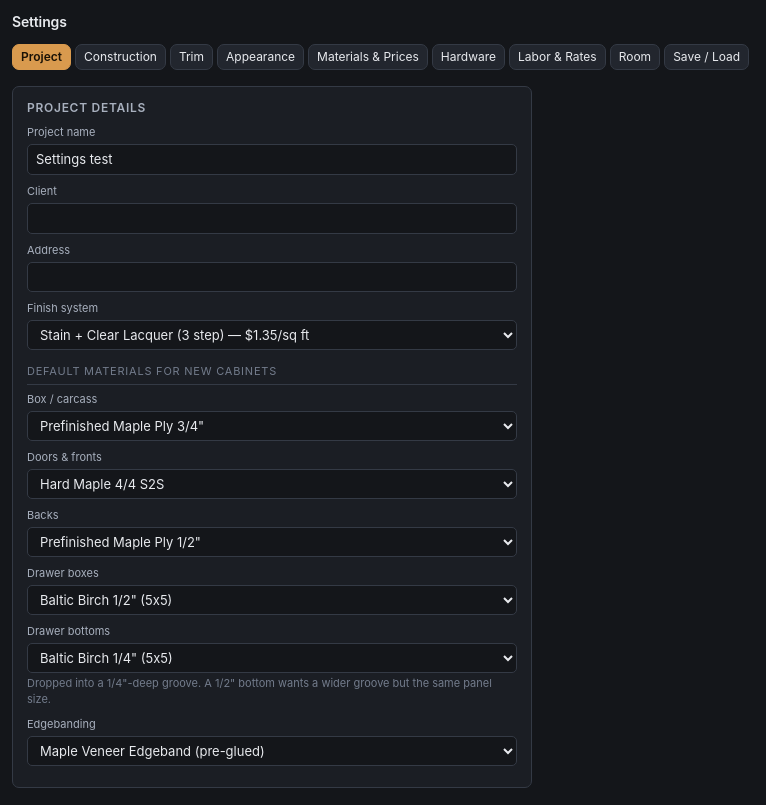
Test: SettingsView save and load › will not wipe the project on a single click
The image size is (766, 805).
Step 1. Click the button "Save / Load" → [707, 57], box [664,44,749,70]
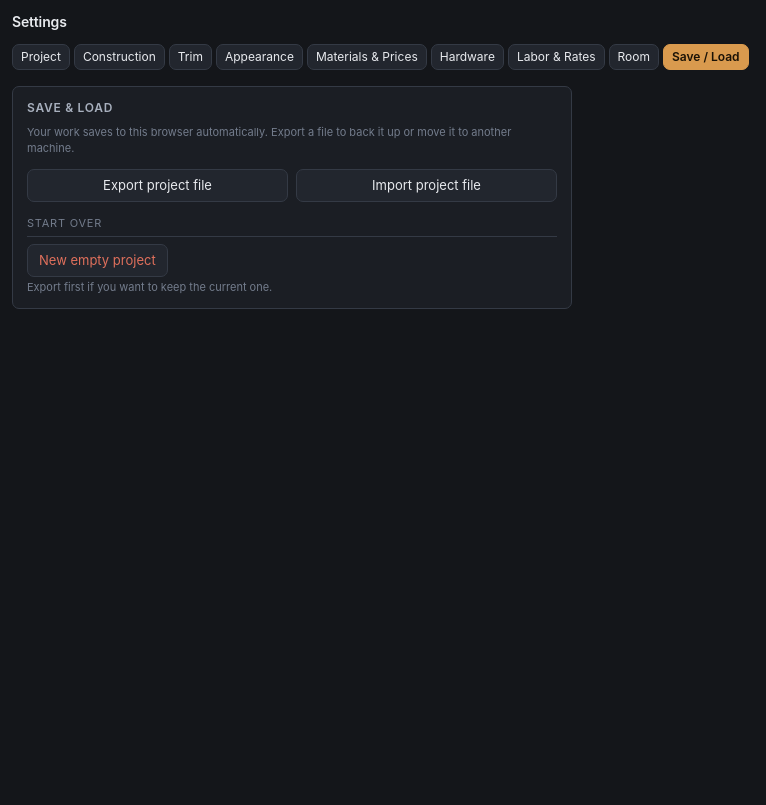
Step 2. Click the button "New empty project" → [97, 260], box [27,244,168,276]
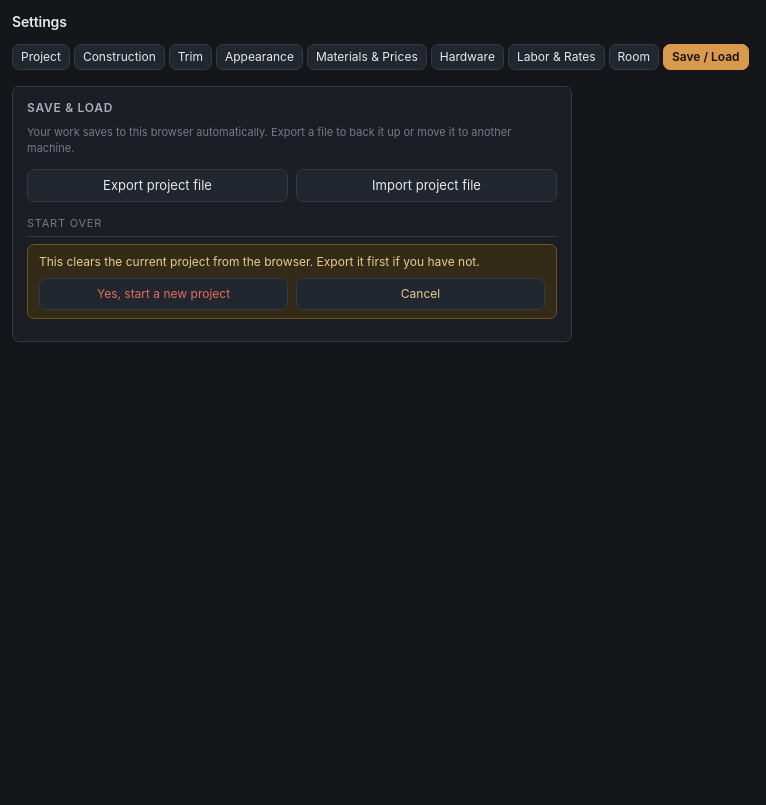
Expected: the text "This clears the current project" is shown, [39,254,480,269]
Step 3. Click the button "Cancel" → [420, 294], box [296,278,545,310]
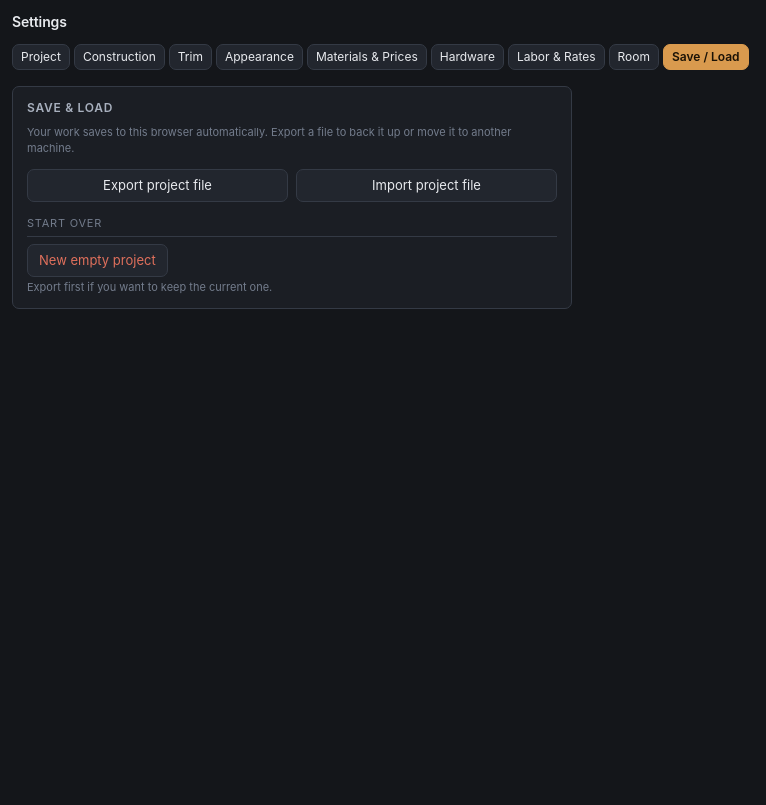
Expected: the button "New empty project" is shown, [27,244,168,276]
